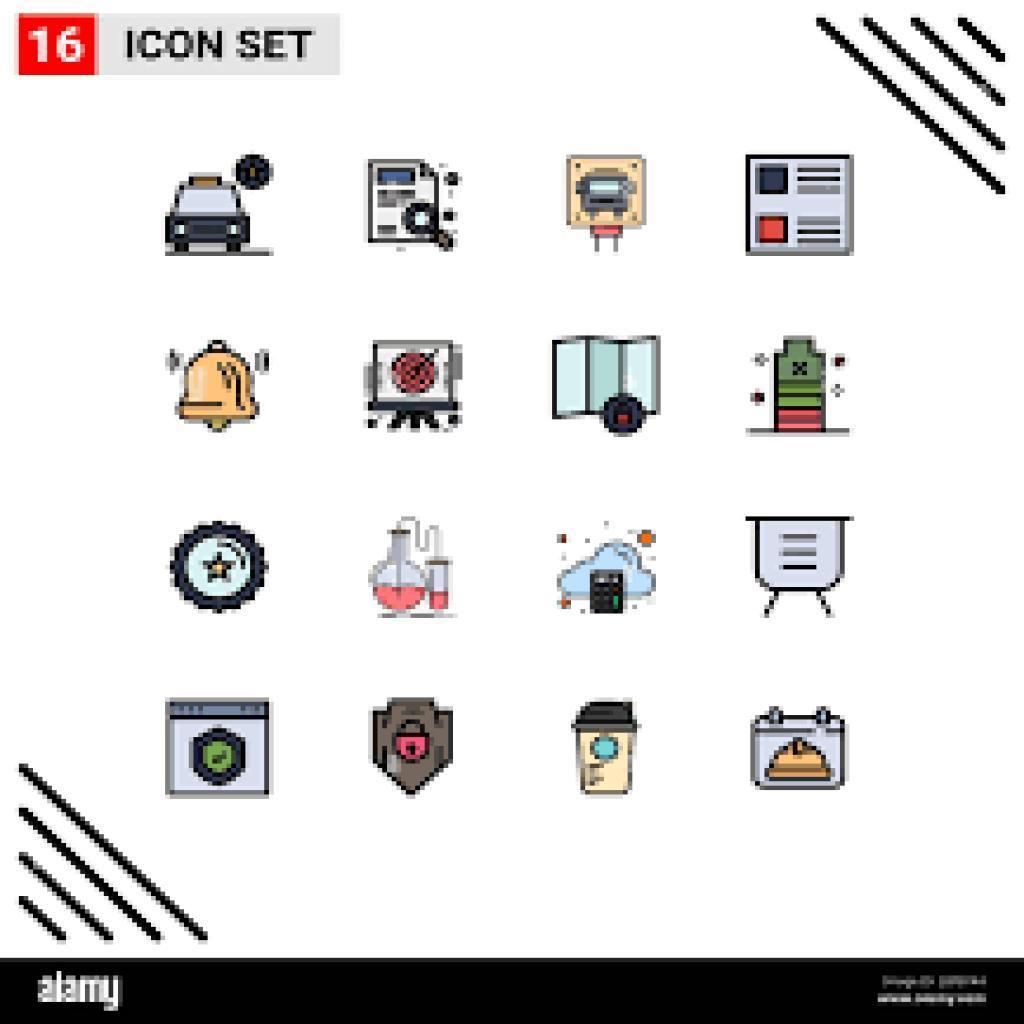icon: (161, 152, 278, 261), (744, 514, 858, 622), (551, 334, 665, 440), (166, 695, 276, 802), (744, 154, 856, 259), (552, 517, 663, 620), (745, 336, 852, 440), (165, 339, 274, 439), (365, 515, 464, 622), (167, 517, 272, 617), (366, 337, 468, 437), (366, 155, 465, 257), (370, 696, 458, 802), (563, 153, 652, 255), (750, 704, 851, 793), (568, 698, 645, 798)
